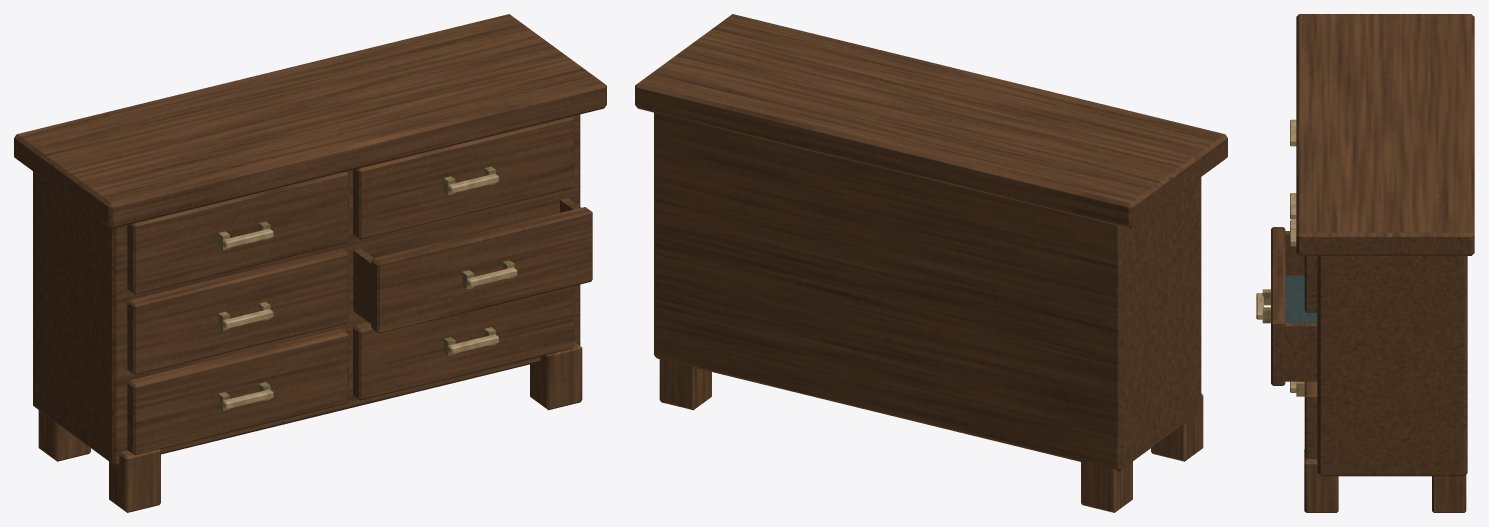
Rendered from PartsCabinet_LOD0.fbx.
3 views of the same model, side by side, from view 1: azimuth 30°, elevation 25°; view 2: azimuth 150°, elevation 25°; view 3: azimuth 270°, elevation 25° (orthographic). The views are drawn at different scales.
Parts seen in each view (by area): view 1: PartsCabinet; view 2: PartsCabinet; view 3: PartsCabinet.
Boxes of the visible parts, box(x1,y1,x2,y2) form: PartsCabinet: box(14, 14, 606, 512); PartsCabinet: box(635, 14, 1227, 512); PartsCabinet: box(1256, 14, 1474, 512).
Bounding box in the file's own units: 1.33 × 0.8095 × 0.554.
1 material, 1 textured.
